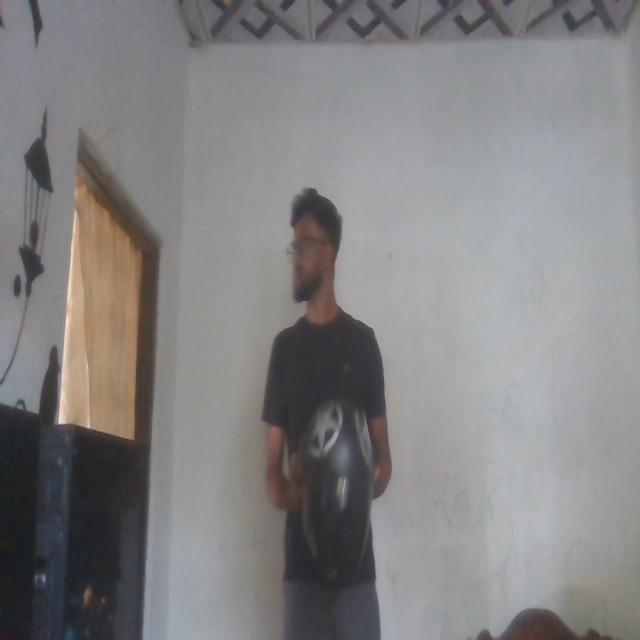Person: (253, 174, 407, 640)
